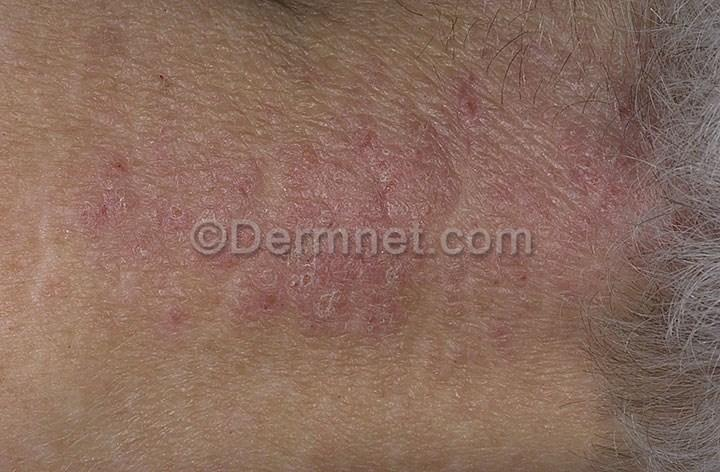Eczema: (43, 47, 483, 353), (488, 83, 632, 327)
